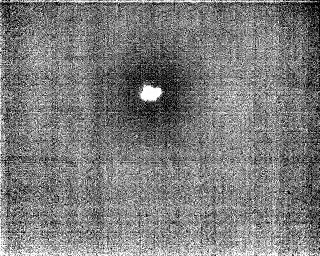AIRPLANE: (136, 81, 164, 105)
